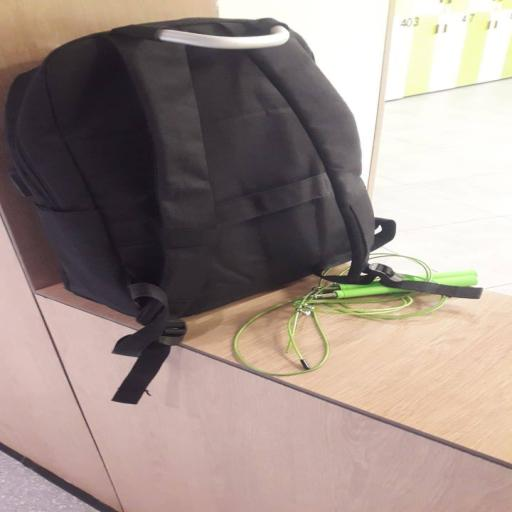door: (5, 18, 404, 403)
